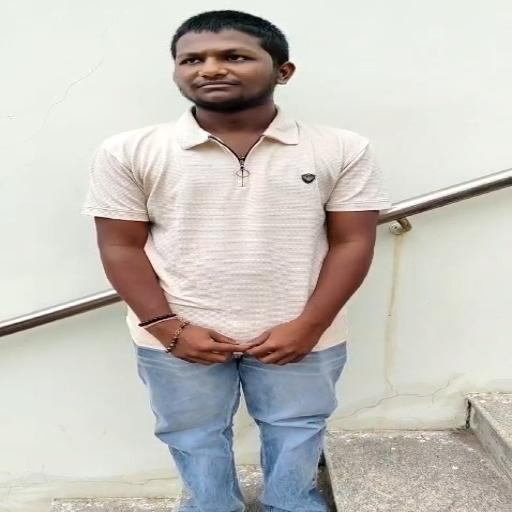employee-detectio-system: (93, 5, 395, 317)
